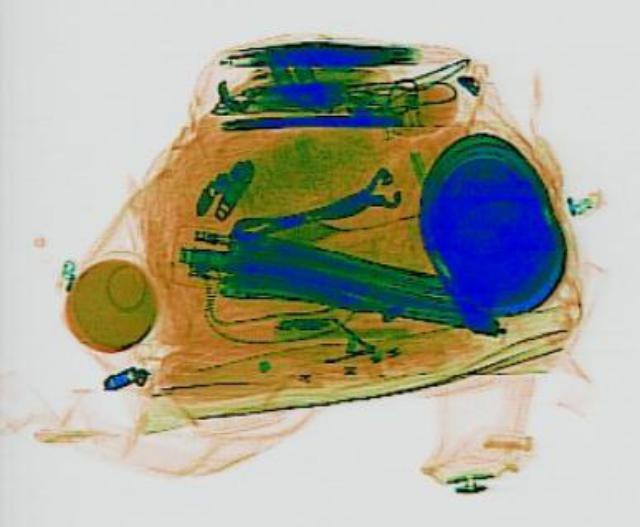Wrench: (223, 164, 404, 251)
